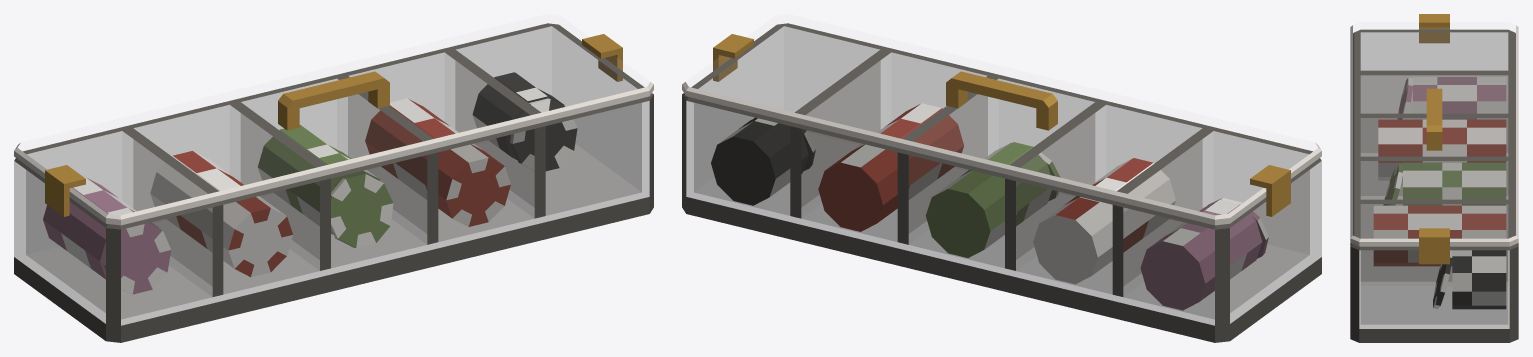
The model's file is chip-carrier-rack-62d3b8.glb.
The picture shows the model from 3 angles, left to right: view 1: azimuth 30°, elevation 25°; view 2: azimuth 150°, elevation 25°; view 3: azimuth 270°, elevation 25°; orthographic projection. The views are drawn at different scales.
Visible parts, largest first — view 1: tray-panes, chips-mesh, tray, lid-mesh; view 2: tray-panes, chips-mesh, tray, lid-mesh; view 3: tray-panes, chips-mesh, tray, lid-mesh.
Boxes of the visible parts, left/top/right/bottom form: tray-panes: left=14, top=26, right=649, bottom=325; chips-mesh: left=43, top=72, right=577, bottom=294; tray: left=14, top=23, right=653, bottom=342; lid-mesh: left=14, top=34, right=653, bottom=225; tray-panes: left=686, top=26, right=1321, bottom=325; chips-mesh: left=711, top=103, right=1268, bottom=310; tray: left=682, top=23, right=1321, bottom=342; lid-mesh: left=682, top=34, right=1321, bottom=225; tray-panes: left=1359, top=32, right=1509, bottom=328; chips-mesh: left=1373, top=77, right=1506, bottom=309; tray: left=1350, top=29, right=1518, bottom=342; lid-mesh: left=1350, top=14, right=1518, bottom=264.
Bounding box in the file's own units: 0.408 × 0.108 × 0.13.
